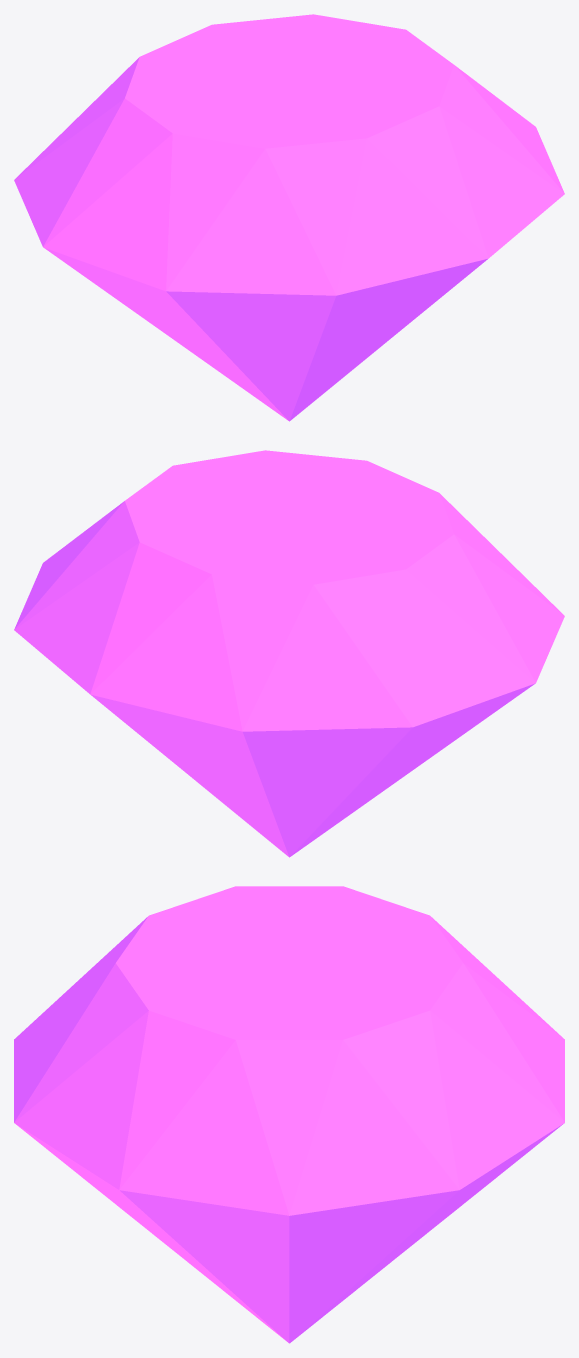
Rendered from gem_amethyst_flawless.glb.
The picture shows the model from 3 angles, top to bottom: view 1: azimuth 30°, elevation 25°; view 2: azimuth 150°, elevation 25°; view 3: azimuth 270°, elevation 25°; orthographic projection. The views are drawn at different scales.
Parts seen in each view (by area): view 1: gem_amethyst_4; view 2: gem_amethyst_4; view 3: gem_amethyst_4.
Boxes of the visible parts, <box> form: gem_amethyst_4: <box>14,14,564,421</box>; gem_amethyst_4: <box>14,450,564,857</box>; gem_amethyst_4: <box>14,886,564,1343</box>.
Bounding box in the file's own units: 0.11 × 0.0725 × 0.0951.
